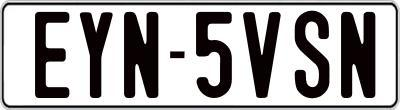5: (195, 11, 232, 98)
E: (35, 10, 73, 102)
N: (123, 11, 161, 103), (340, 9, 376, 97)
S: (295, 8, 330, 101)
V: (241, 12, 281, 100)
Y: (78, 11, 116, 100)
